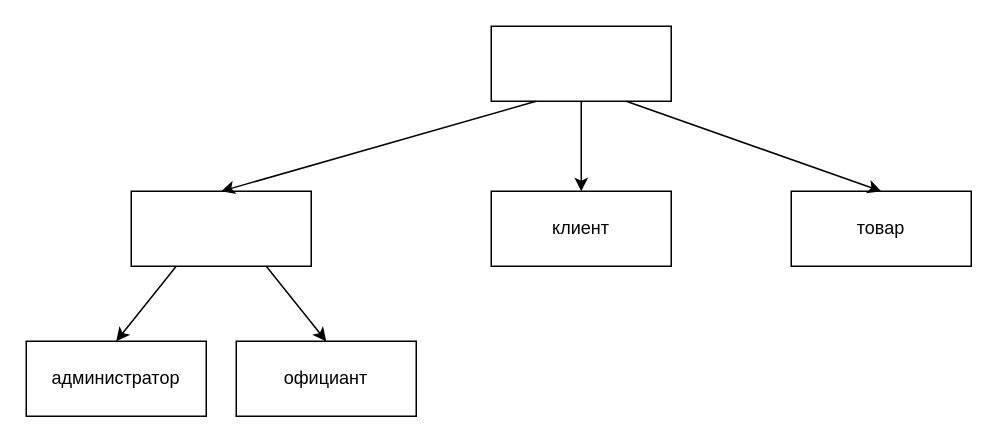
Image size: 998x443. Some labels were removed from this diagram. Here are the shapes that lost their labels. From the top down, the box of each, then its label:
(490, 25, 671, 101): все точки зрения
(130, 190, 311, 266): сотрудники
